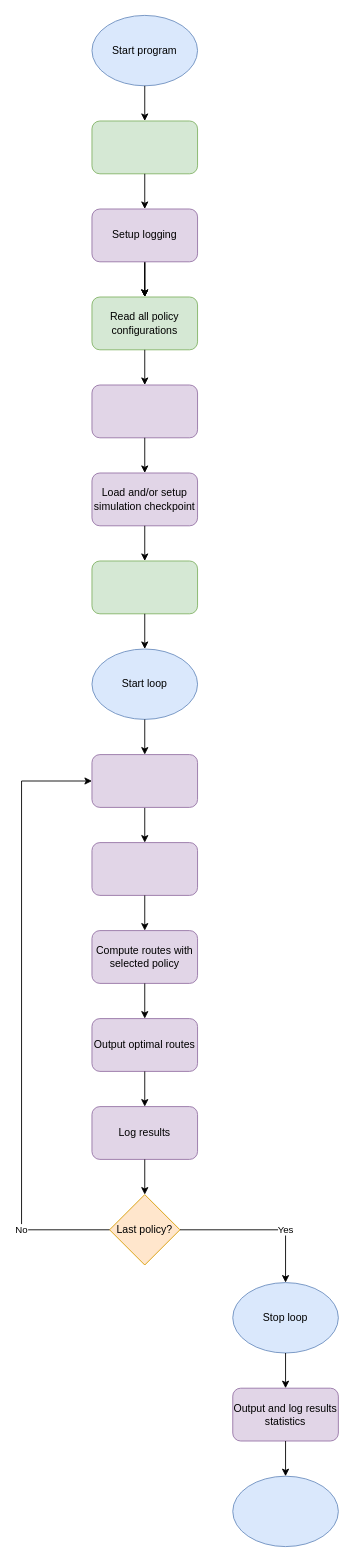
The diagram is 354 pixels wide and 1562 high, and some of its shapes have lost their labels. Each missing label, with the centre of its shape:
Load and process bin sensor data: [144,411]
Load or sample daily waste bin fillings: [144,780]
Read all simulation configurations: [144,147]
Read model weights and solver files: [144,587]
Select mandatory bins to visit: [144,868]
Stop program: [285,1511]
